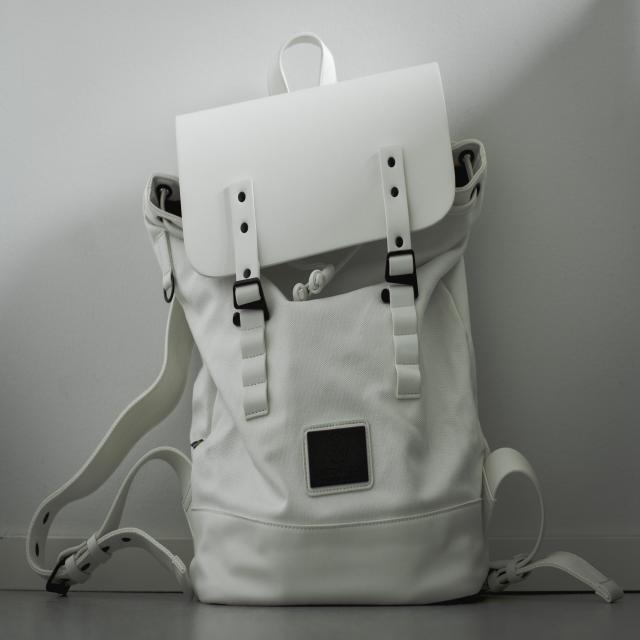backpack: (24, 34, 626, 609)
